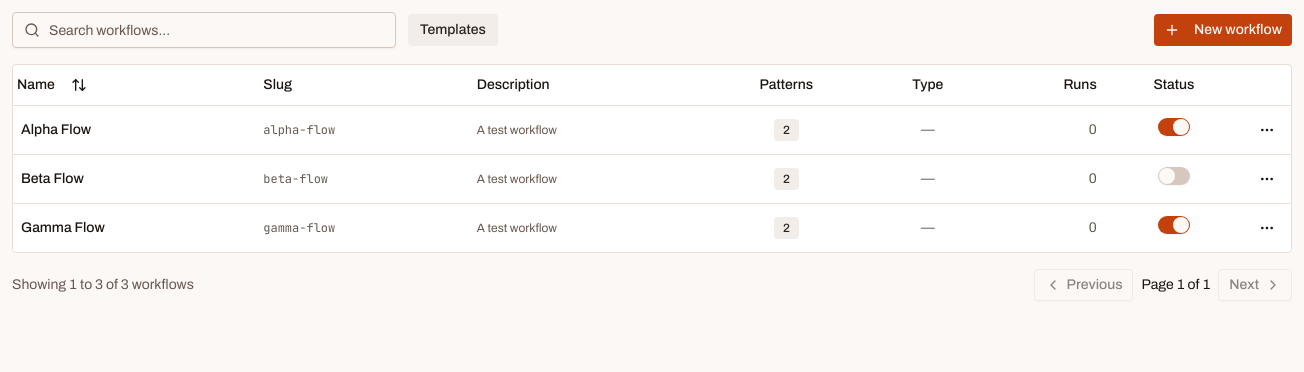
Test: WorkflowsTable › duplicate error handling › shows error banner when duplicate fails with generic error
Step 1. Click the button named "row actions" in the row of "Alpha Flow" → (1267, 130), box [1251,114,1283,146]
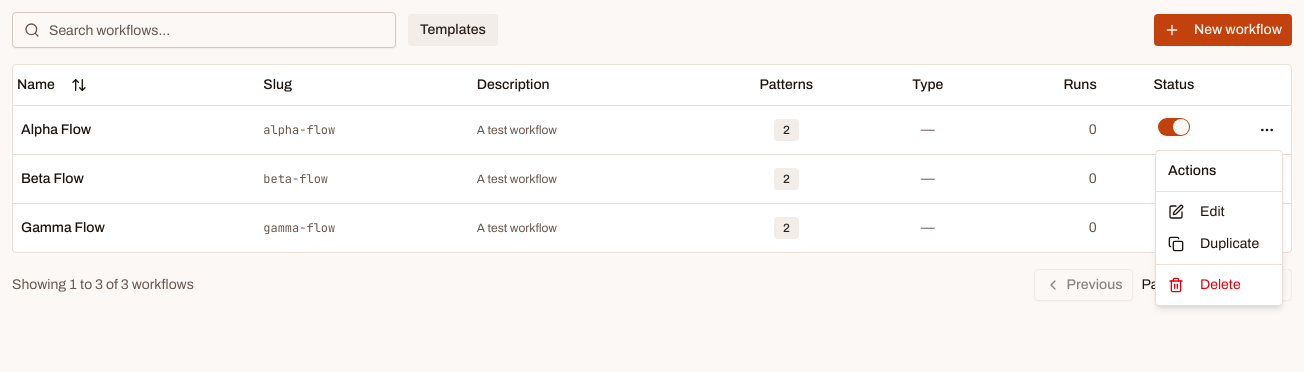
Step 2. Click the menu item "Duplicate" → (1214, 244), box [1168,236,1259,252]
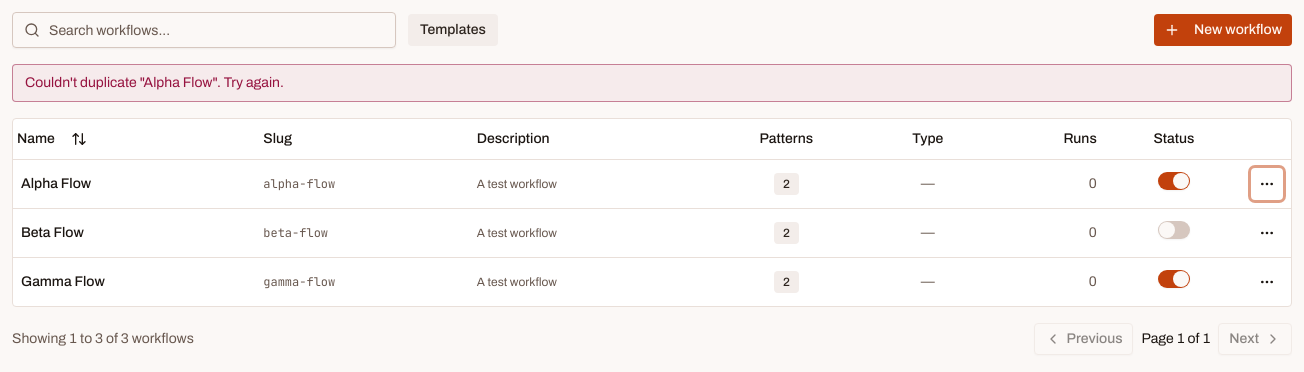
Expected: the text "Couldn't duplicate \"Alpha Flow\". Try again." is shown, [12,64,1292,102]
